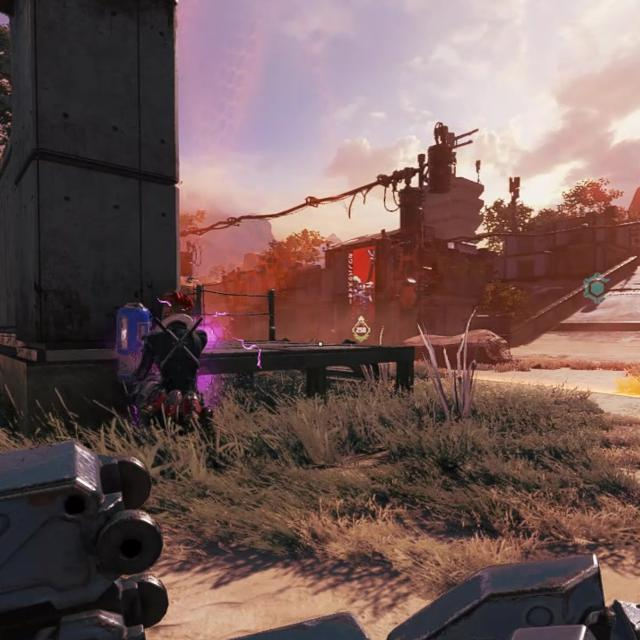avatar: (139, 287, 210, 423)
